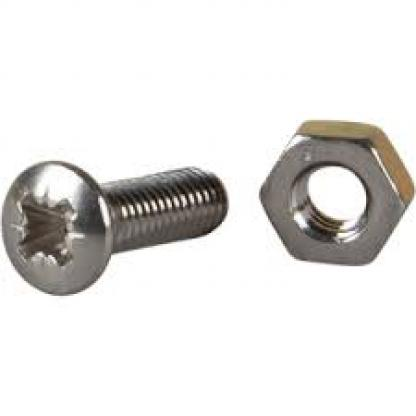METAL: (0, 159, 228, 297), (255, 120, 414, 266)
